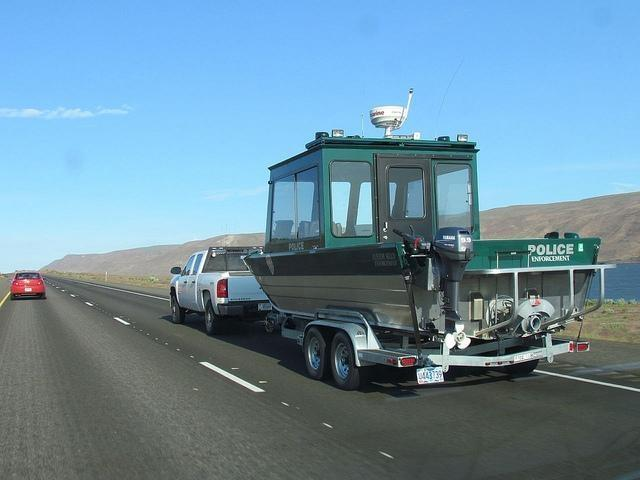car: (10, 272, 48, 300)
truck: (244, 88, 614, 392), (170, 244, 276, 336)
